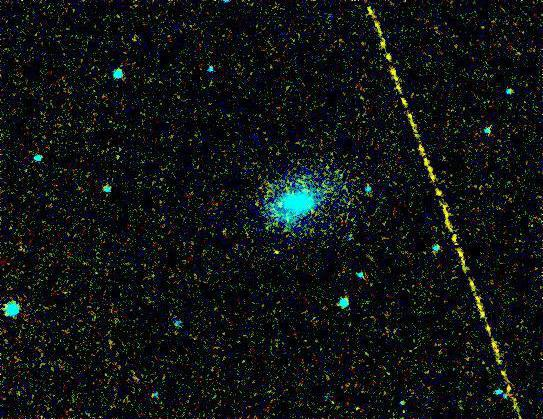star: (264, 236, 294, 266)
